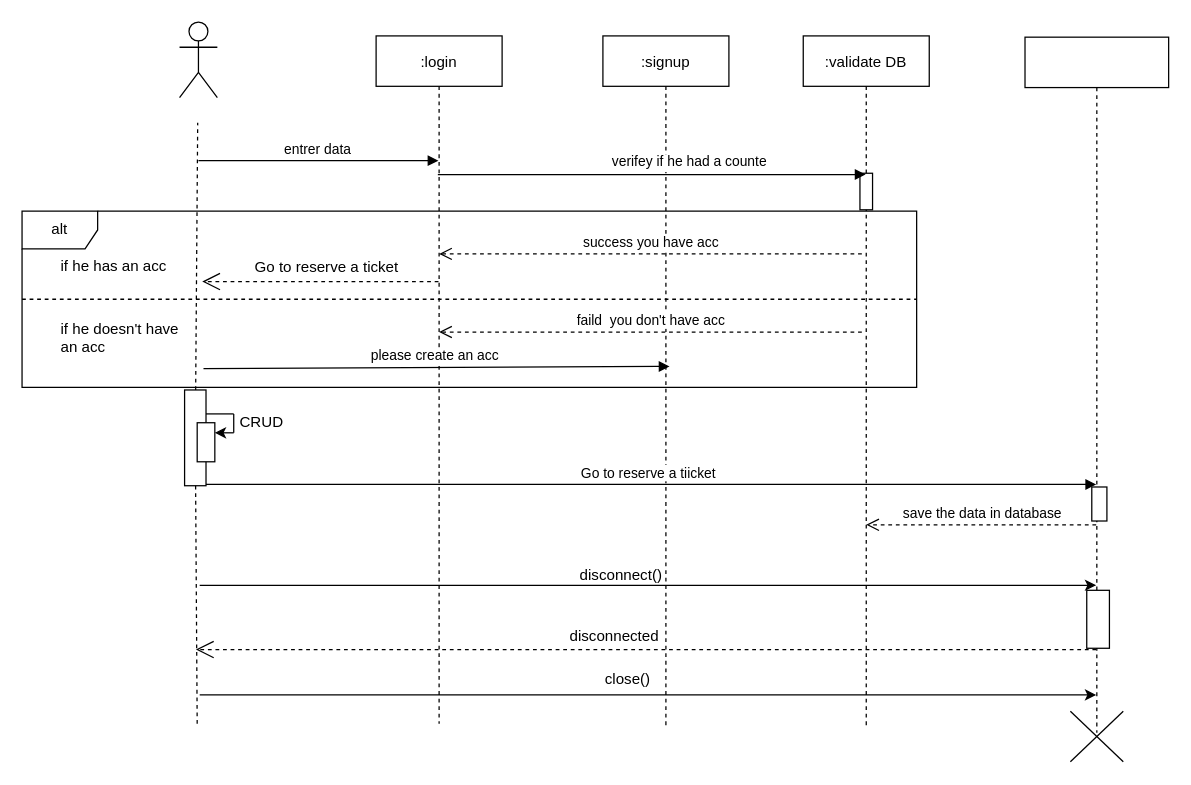
Image size: 1191x785. Some labels were removed from this diagram. Each missing label, with the box of its shape:
:réserve a ticket: (1024, 36, 1169, 733)
User: (178, 21, 217, 98)
